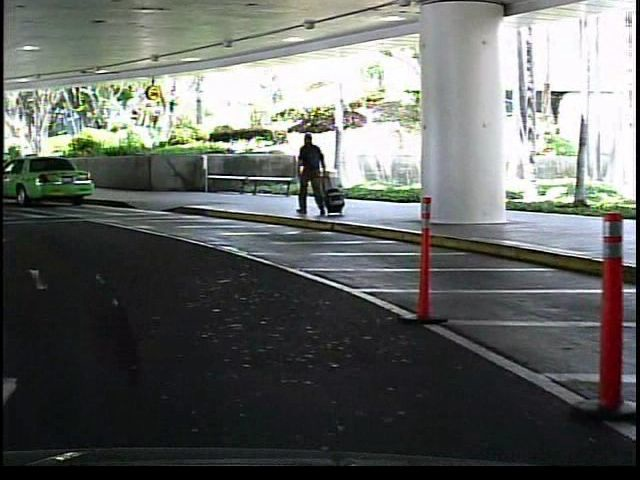person: (290, 125, 330, 223)
